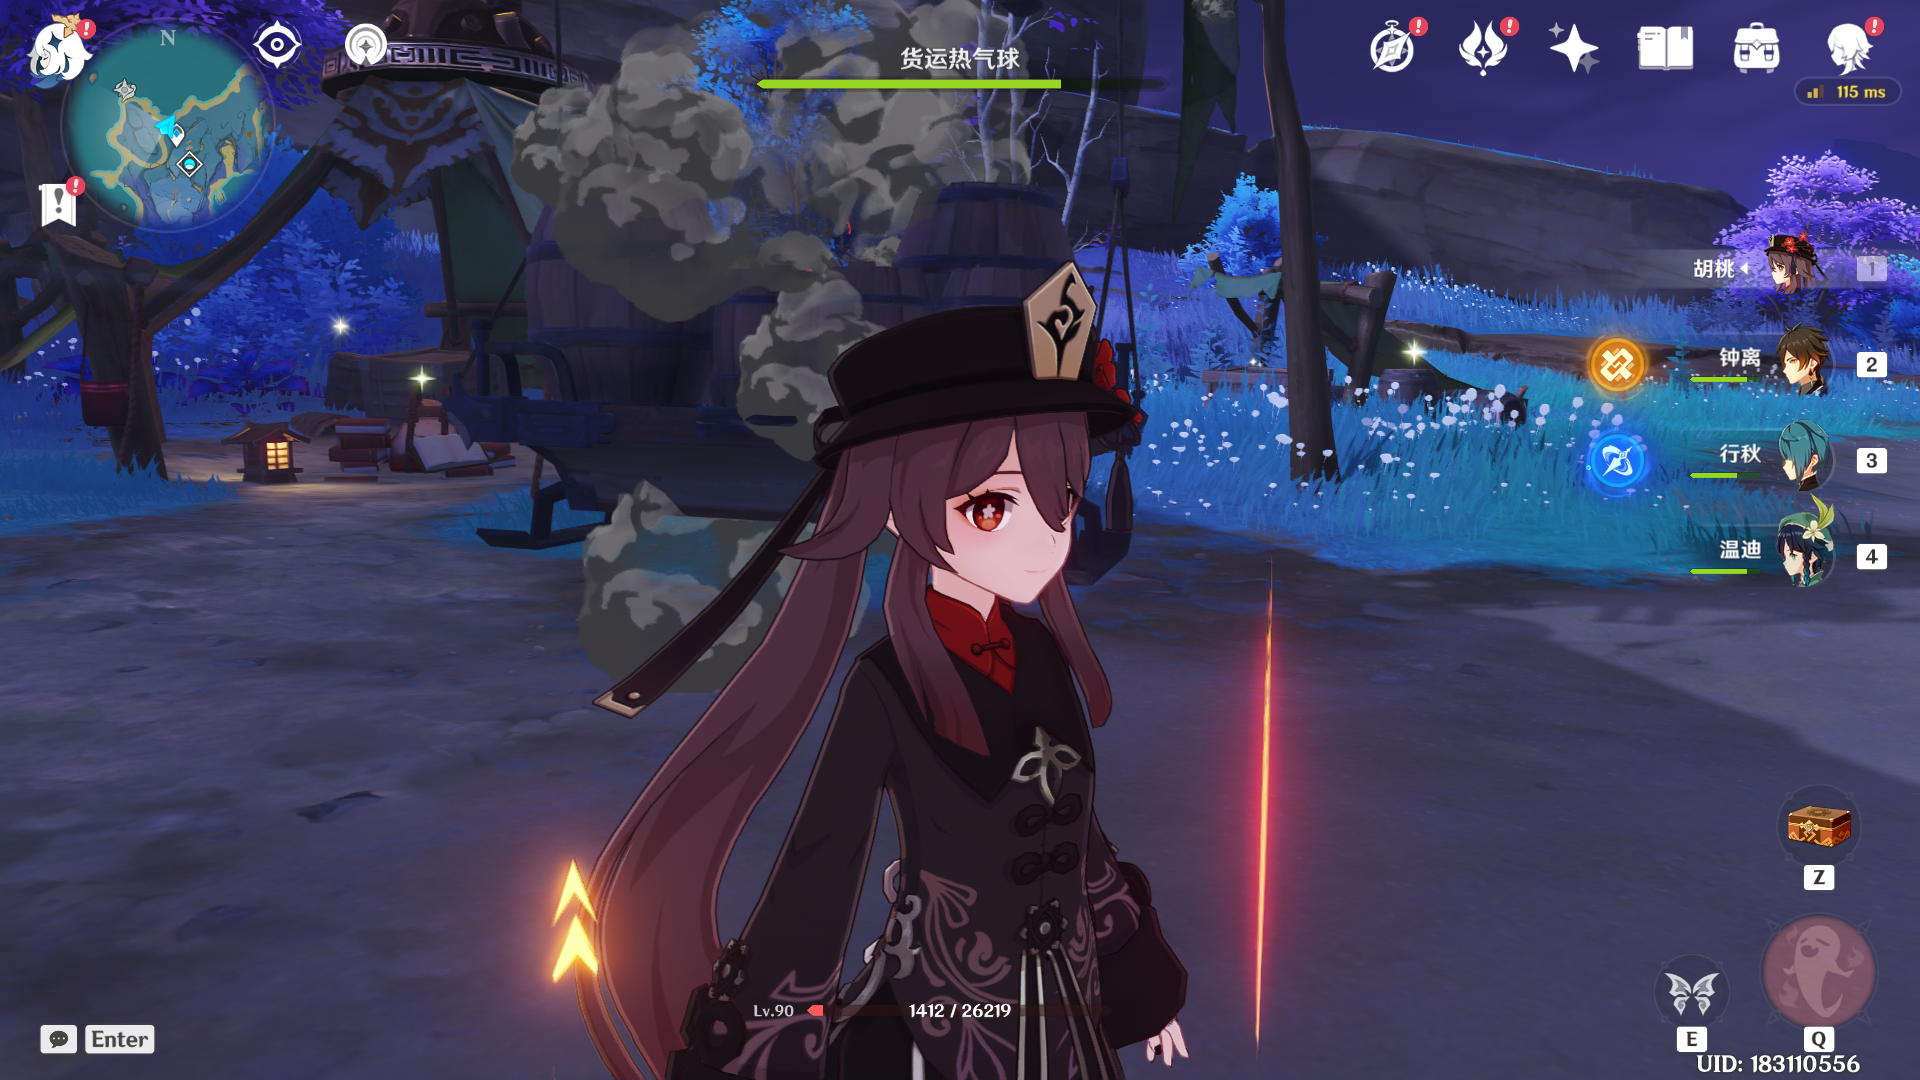character: (505, 298, 1340, 1080)
